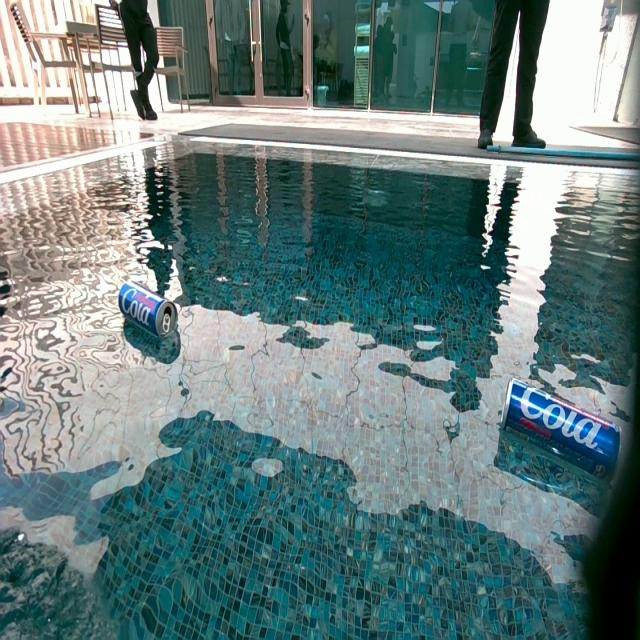Cans: (500, 381, 625, 478), (119, 285, 178, 340)
